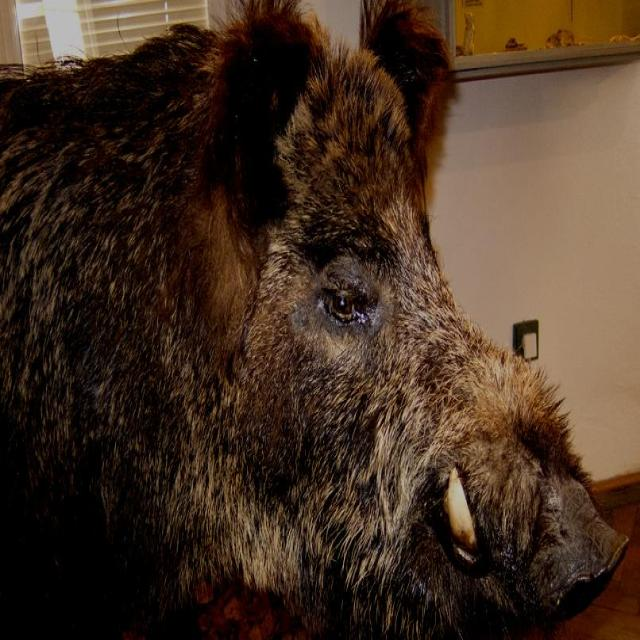pig: (0, 4, 625, 636)
